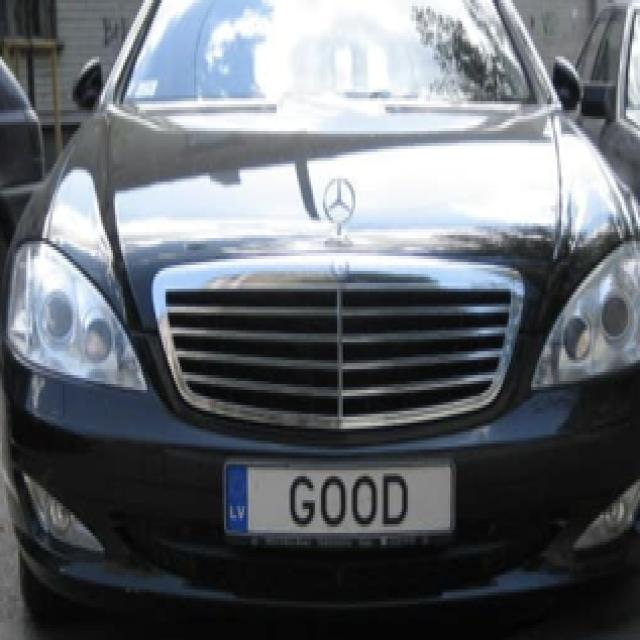license_plate: (214, 461, 462, 542)
